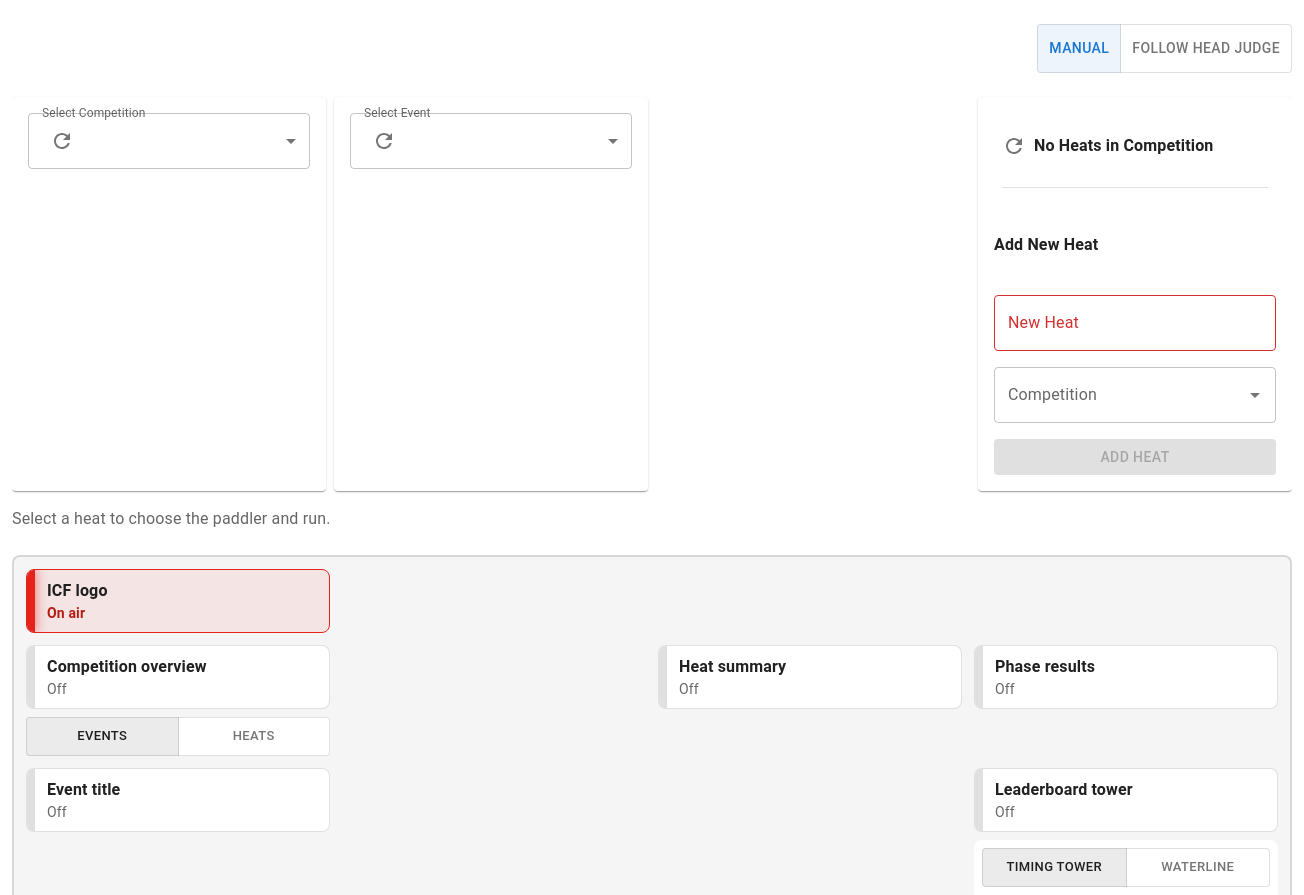
Test: OverlayController › Follow head judge mode › disables competition, heat, paddler and run but not event and phase
Expected: the text "Select Event" is shown, [364, 104, 431, 121]
Click the button "Follow head judge" at {"x": 1206, "y": 48}, box [1120, 24, 1292, 72]
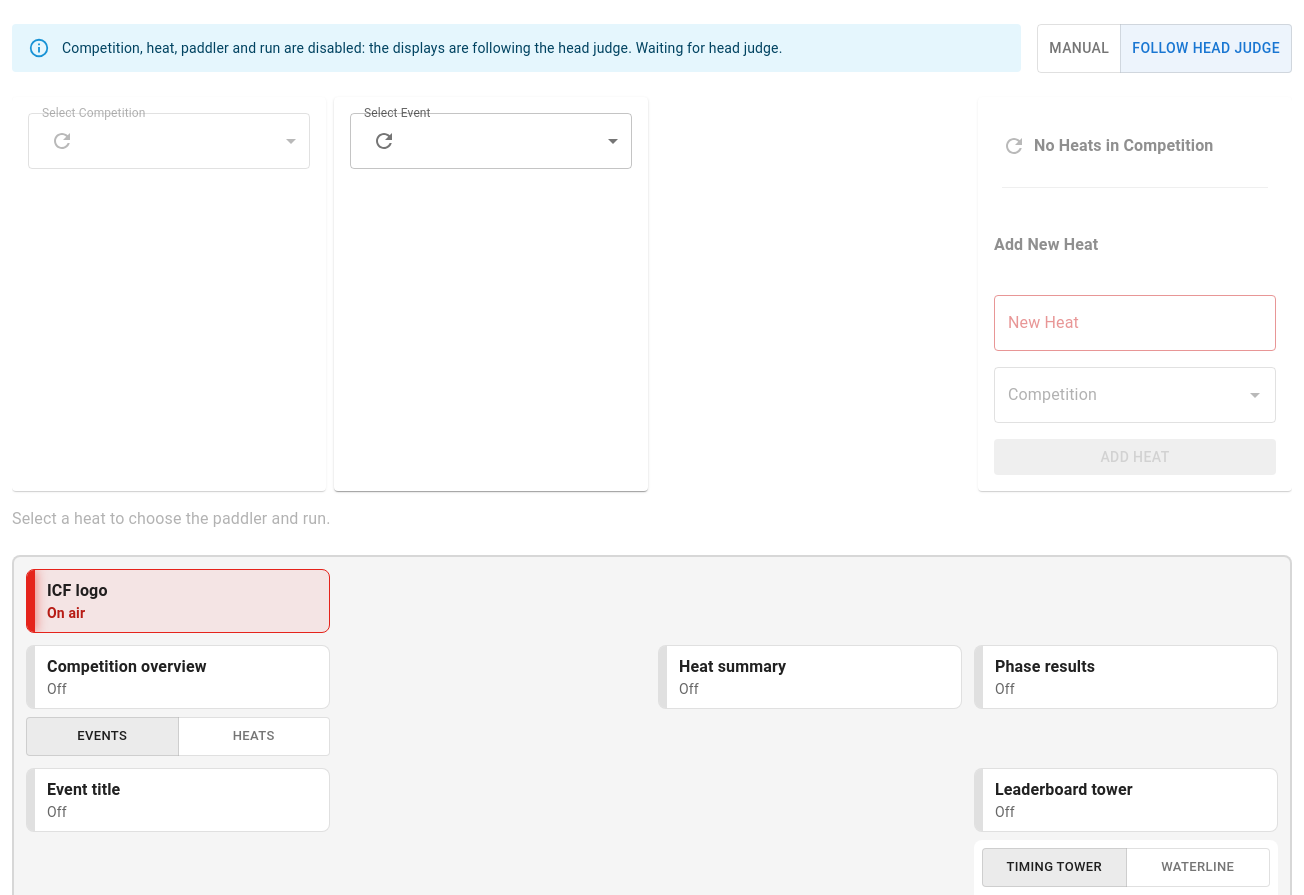
Expected: the text "Select Event" is shown, [364, 104, 431, 121]
Expected: the message shows "Waiting for head judge", [636, 40, 782, 56]
